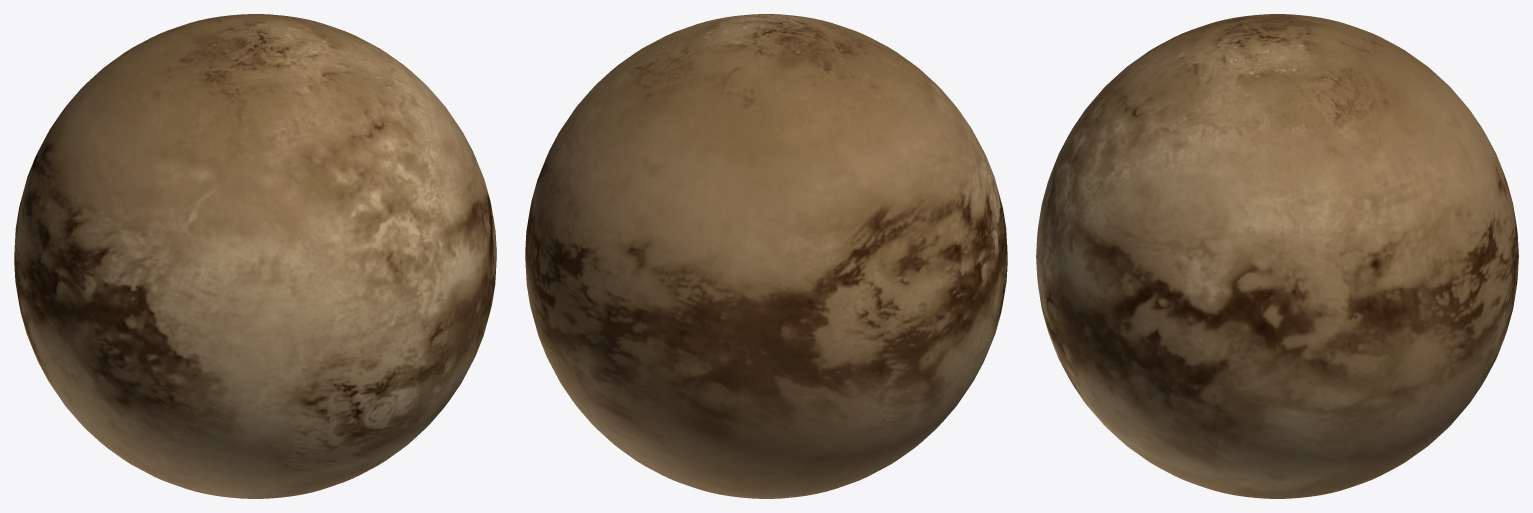
Rendered from titan.glb.
3 views of the same model, side by side, from view 1: azimuth 30°, elevation 25°; view 2: azimuth 150°, elevation 25°; view 3: azimuth 270°, elevation 25° (orthographic).
Parts seen in each view (by area): view 1: Sphere; view 2: Sphere; view 3: Sphere.
Boxes of the visible parts, left/top/right/bottom form: Sphere: left=14, top=14, right=496, bottom=498; Sphere: left=525, top=14, right=1007, bottom=498; Sphere: left=1036, top=14, right=1518, bottom=498.
Bounding box in the file's own units: 1.97 × 2 × 1.97.
Materials: 1 (1 with a texture image).
